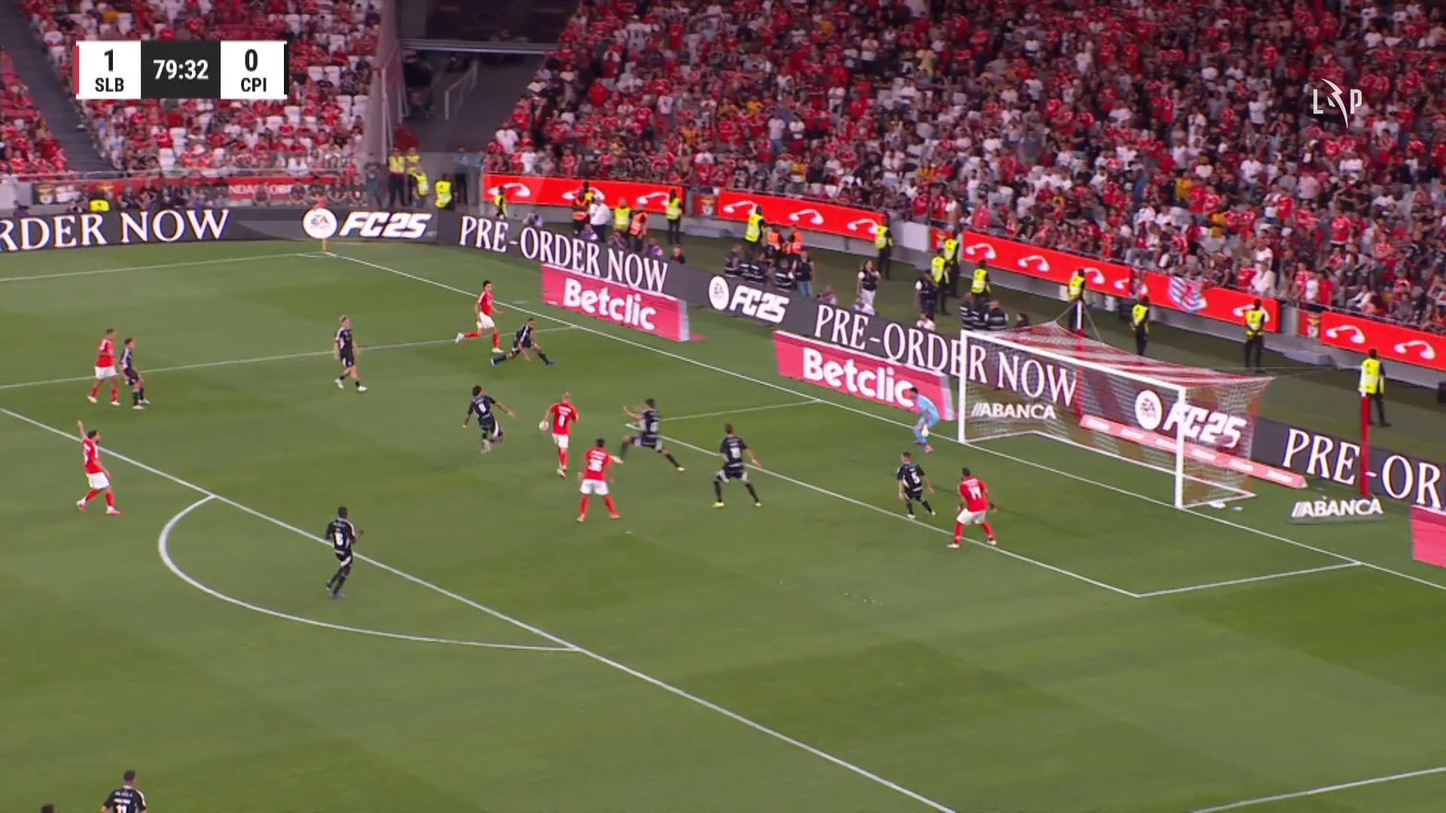ball: (536, 418, 552, 436)
goalkeeper: (901, 385, 940, 453)
player: (614, 397, 685, 472), (453, 279, 508, 364), (711, 422, 764, 508), (75, 419, 121, 515), (946, 466, 998, 549), (574, 437, 624, 522), (461, 384, 515, 454), (323, 504, 363, 598), (538, 391, 579, 479), (95, 762, 153, 813), (331, 314, 368, 392), (895, 450, 936, 519), (86, 326, 121, 406), (117, 336, 151, 409), (509, 316, 555, 367)
